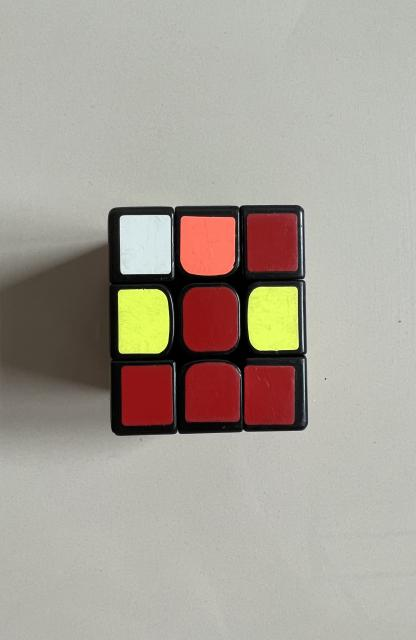Orange: (180, 216, 235, 276)
Red: (182, 286, 239, 352), (185, 362, 240, 422), (121, 365, 173, 426), (247, 212, 298, 272), (245, 365, 295, 425)
White: (119, 215, 171, 275)
Yellow: (118, 289, 170, 354), (248, 286, 299, 351)
